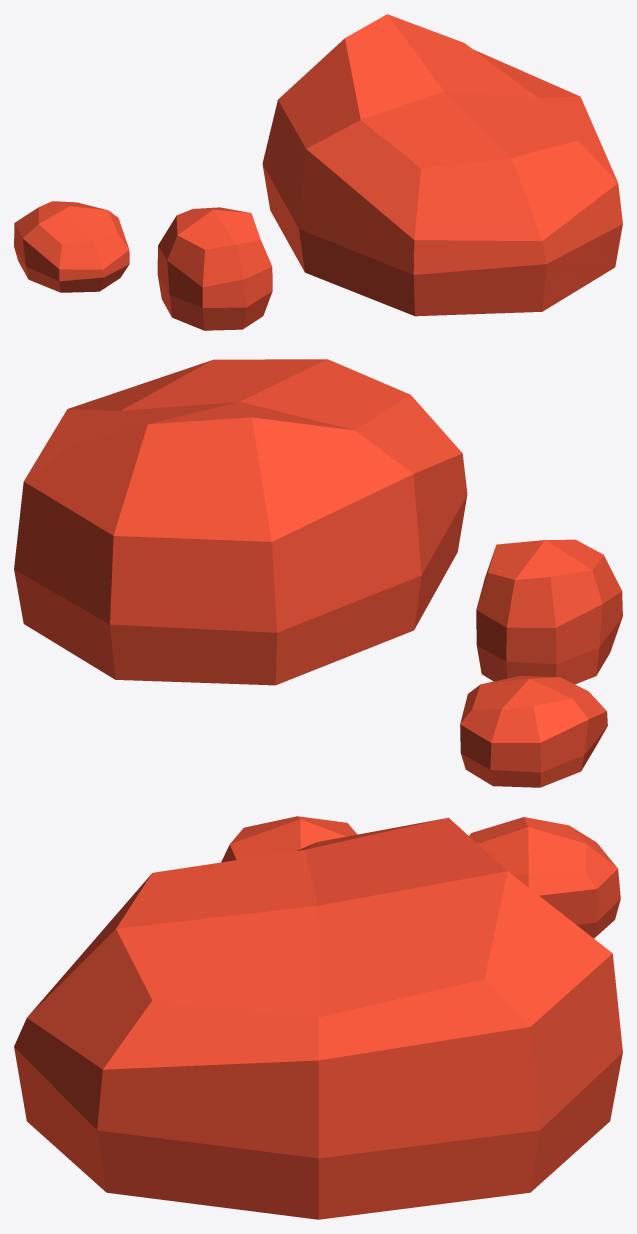
The model's file is rocks.fbx.
The picture shows the model from 3 angles, top to bottom: view 1: azimuth 30°, elevation 25°; view 2: azimuth 150°, elevation 25°; view 3: azimuth 270°, elevation 25°; orthographic projection. The views are drawn at different scales.
Parts seen in each view (by area): view 1: Cube, Cube.002, Cube.001; view 2: Cube, Cube.002, Cube.001; view 3: Cube, Cube.001, Cube.002.
Part boxes in pixels (x1,y1,x2,y2): Cube: [262, 14, 622, 316]; Cube.002: [157, 207, 272, 330]; Cube.001: [14, 201, 129, 292]; Cube: [14, 359, 467, 685]; Cube.002: [476, 539, 622, 684]; Cube.001: [460, 675, 607, 787]; Cube: [14, 818, 622, 1219]; Cube.001: [469, 817, 620, 938]; Cube.002: [221, 816, 357, 862].
Size of the model in its own units: 363 by 138 by 266.
